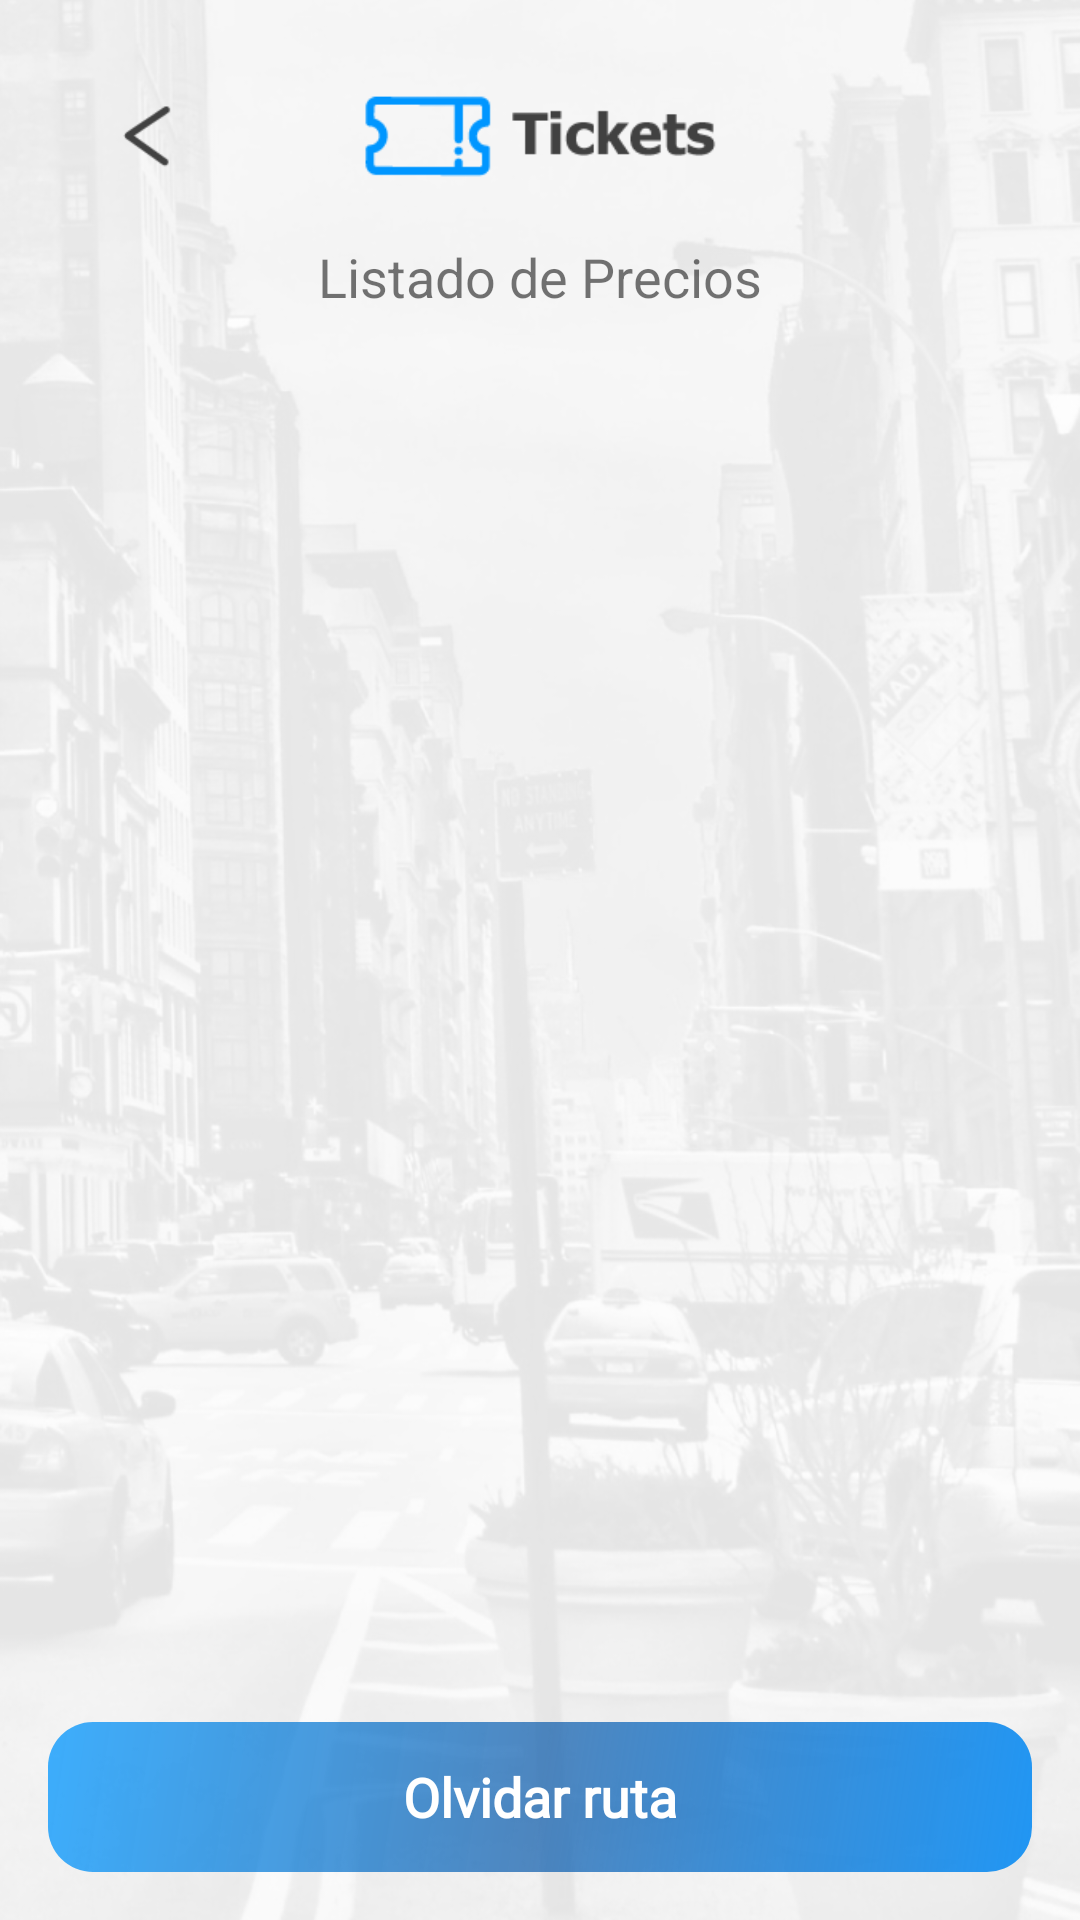

Named icons in this screenshot (1080 × 1920) and their centers, point (x, y):
back: point (147, 136)
